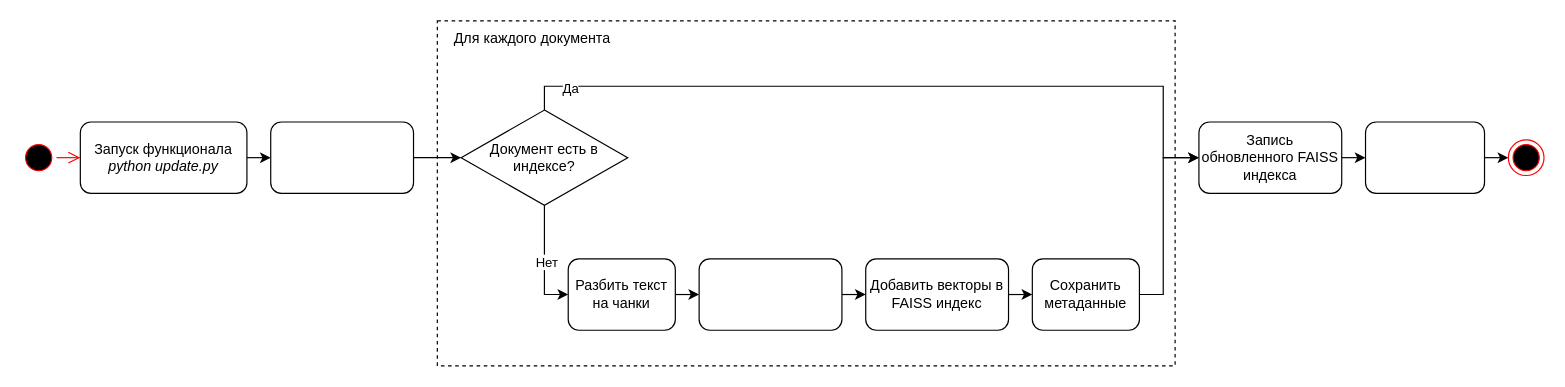
The diagram is 1565 pixels wide and 387 high, and some of its shapes have lost their labels. Each missing label, with the centre of its shape:
"Вывод лога по пути /logs" belongs at [1424,157].
"Получение документов из директории /docs" belongs at [342,157].
"Создать эмбеддинг через модель" belongs at [770,294].
